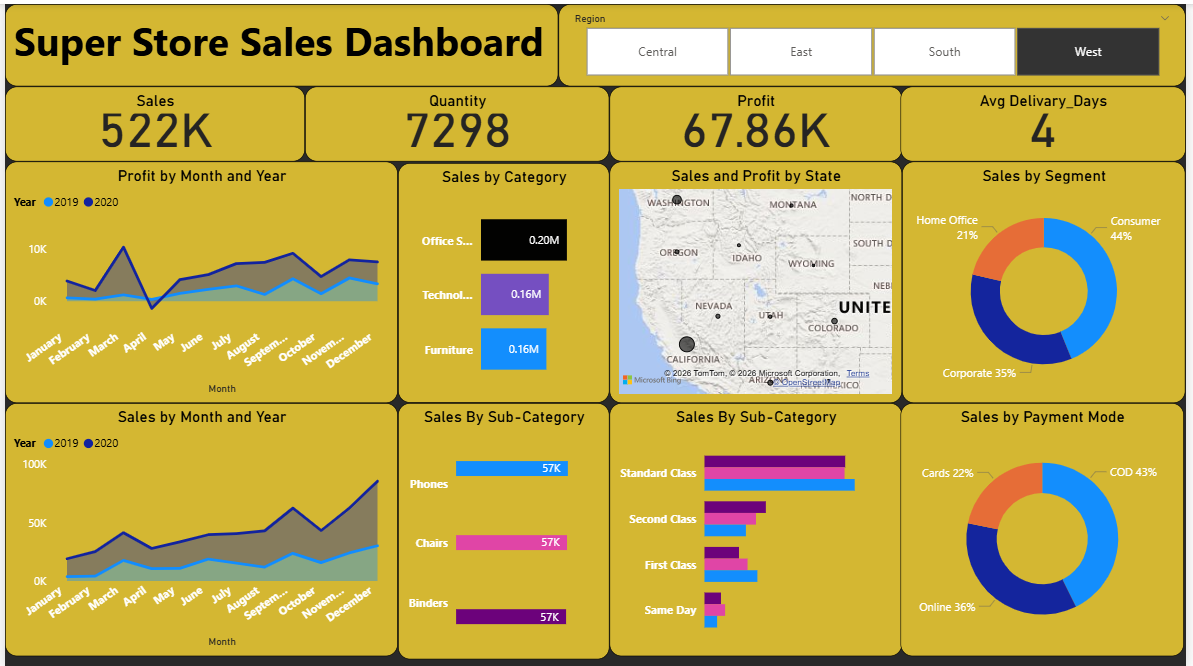

The dashboard page shown, as its layout file describes it:
{"tool":"powerbi","page":{"name":"Super Store Sales Dashboard ","canvas":[1280,720],"ordinal":0},"visuals":[{"type":"clusteredBarChart","title":"Sales by Category","fields":{"Category":["SuperStore_Sales_Dataset.Category"],"Y":["Sum(SuperStore_Sales_Dataset.Sales)"]},"box":[426.2,172.4,229.3,260.2],"z":0},{"type":"clusteredBarChart","title":"Sales By Sub-Category","fields":{"Category":["SuperStore_Sales_Dataset.Sub-Category"],"Y":["Sum(SuperStore_Sales_Dataset.Sales)"],"Series":["SuperStore_Sales_Dataset.Sub-Category"]},"box":[426.2,432.7,229.3,278.1],"z":1000},{"type":"clusteredBarChart","title":"Sales By Sub-Category","fields":{"Category":["SuperStore_Sales_Dataset.Ship Mode"],"Y":["Sum(SuperStore_Sales_Dataset.Sales)"],"Series":["SuperStore_Sales_Dataset.Sub-Category"]},"box":[655.5,432.7,317.2,274.9],"z":2000},{"type":"stackedAreaChart","title":"Sales by Month and Year","fields":{"Y":["Sum(SuperStore_Sales_Dataset.Sales)"],"Series":["SuperStore_Sales_Dataset.Order Date.Variation.Date Hierarchy.Year"],"Category":["SuperStore_Sales_Dataset.Order Date.Variation.Date Hierarchy.Month"]},"box":[0,432.7,426.2,274.9],"z":3000},{"type":"stackedAreaChart","title":"Profit by Month and Year","fields":{"Series":["SuperStore_Sales_Dataset.Order Date.Variation.Date Hierarchy.Year"],"Category":["SuperStore_Sales_Dataset.Order Date.Variation.Date Hierarchy.Month"],"Y":["Sum(SuperStore_Sales_Dataset.Profit)"]},"box":[0,170.8,426.2,261.9],"z":4000},{"type":"map","title":"Sales and Profit by State","fields":{"Category":["SuperStore_Sales_Dataset.State"],"Size":["Sum(SuperStore_Sales_Dataset.Sales)"]},"box":[655.5,170.8,317.2,261.9],"z":5000},{"type":"donutChart","title":"Sales by Segment","fields":{"Category":["SuperStore_Sales_Dataset.Segment"],"Y":["Sum(SuperStore_Sales_Dataset.Sales)"]},"box":[972.7,170.8,307.4,261.9],"z":6000},{"type":"donutChart","title":"Sales by Payment Mode","fields":{"Category":["SuperStore_Sales_Dataset.Payment Mode"],"Y":["Sum(SuperStore_Sales_Dataset.Sales)"]},"box":[971,432.7,307.4,274.9],"z":7000},{"type":"slicer","fields":{"Values":["SuperStore_Sales_Dataset.Region"]},"box":[600.2,0,679.9,89.5],"z":8000},{"type":"textbox","box":[0,0,600.2,89.5],"z":9000},{"type":"card","title":"Sales","fields":{"Values":["Sum(SuperStore_Sales_Dataset.Sales)"]},"box":[0,89.5,325.3,81.3],"z":10000},{"type":"card","title":"Quantity","fields":{"Values":["Sum(SuperStore_Sales_Dataset.Quantity)"]},"box":[325.3,89.5,330.2,81.3],"z":11000},{"type":"card","title":"Profit","fields":{"Values":["Sum(SuperStore_Sales_Dataset.Profit)"]},"box":[655.5,89.5,317.2,81.3],"z":12000},{"type":"card","title":"Avg Delivary_Days","fields":{"Values":["Avg(SuperStore_Sales_Dataset.Avarage Delivary)"]},"box":[971,89.5,309,81.3],"z":13000}]}

Visuals, with their boxes in screenshot pixels (x1, y1, x2, y2), scaled from the page's 1280x720 canvas onto the 1193x666 screenshot:
"Sales by Category" clusteredBarChart: (397,159,611,400)
"Sales By Sub-Category" clusteredBarChart: (397,400,611,657)
"Sales By Sub-Category" clusteredBarChart: (611,400,907,655)
"Sales by Month and Year" stackedAreaChart: (0,400,397,655)
"Profit by Month and Year" stackedAreaChart: (0,158,397,400)
"Sales and Profit by State" map: (611,158,907,400)
"Sales by Segment" donutChart: (907,158,1192,400)
"Sales by Payment Mode" donutChart: (905,400,1192,655)
slicer - SuperStore_Sales_Dataset.Region: (559,0,1192,83)
textbox: (0,0,559,83)
"Sales" card: (0,83,303,158)
"Quantity" card: (303,83,611,158)
"Profit" card: (611,83,907,158)
"Avg Delivary_Days" card: (905,83,1192,158)
